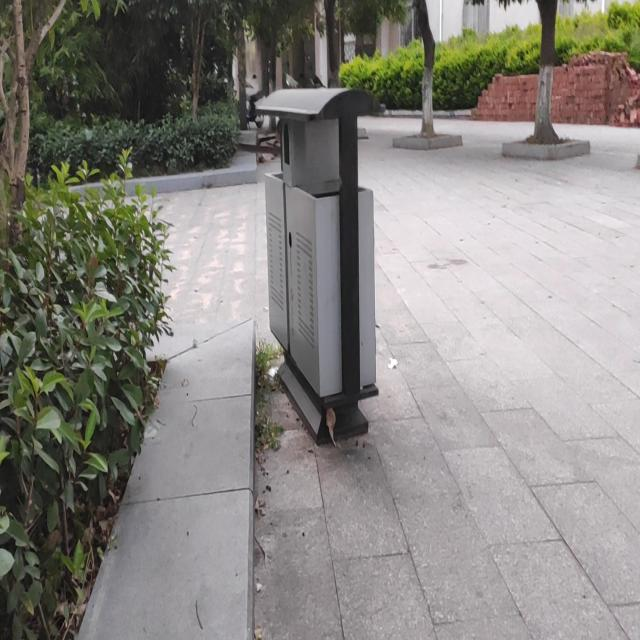ash bin: (256, 85, 380, 446)
